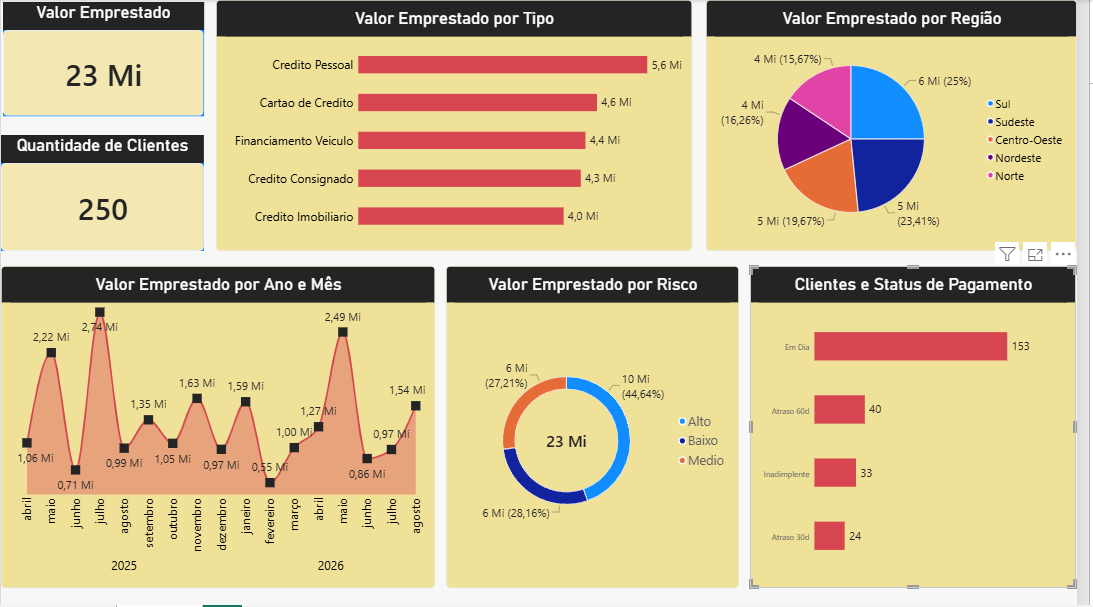

The page's visual inventory and layout, read from the dashboard file:
{"tool":"powerbi","page":{"name":"Página 1","canvas":[1920,1080],"ordinal":0},"visuals":[{"type":"cardVisual","title":"Valor Emprestado","fields":{"Data":["Sum(Dados.VALOR EMPRESTADO)"]},"box":[3.6,3.6,358.8,203.5],"z":0},{"type":"barChart","title":"Valor Emprestado por Tipo","fields":{"Category":["Dados.TIPO DE CRÉDITO"],"Y":["Sum(Dados.VALOR EMPRESTADO)"]},"box":[383.8,0,849.7,448.1],"z":1001},{"type":"cardVisual","title":"Quantidade de Clientes","fields":{"Data":["Count(Dados.ID CLIENTE)"]},"box":[0,241,362.4,207.1],"z":1002},{"type":"areaChart","title":"Valor Emprestado por Ano e Mês","fields":{"Category":["Dados.DATA CONTRATO.Variation.Hierarquia de datas.Ano","Dados.DATA CONTRATO.Variation.Hierarquia de datas.Mês"],"Y":["Sum(Dados.VALOR EMPRESTADO)"]},"box":[0,474.8,774.7,574.8],"z":1003},{"type":"pieChart","title":"Valor Emprestado por Região","fields":{"Category":["Dados.REGIÃO"],"Y":["Sum(Dados.VALOR EMPRESTADO)"]},"box":[1258.5,0,662.3,448.1],"z":1004},{"type":"donutChart","title":"Valor Emprestado por Risco","fields":{"Category":["Dados.RISCO"],"Y":["Sum(Dados.VALOR EMPRESTADO)"]},"box":[794.4,474.8,523,574.8],"z":1005},{"type":"barChart","title":"Clientes e Status de Pagamento","fields":{"Category":["Dados.STATUS"],"Y":["CountNonNull(Dados.ID CLIENTE)"]},"box":[1337.1,474.8,582,574.8],"z":1006}]}

Visuals, with their boxes in screenshot pixels (x1, y1, x2, y2), scaled from the page's 1920x1080 canvas onto the 1093x607 screenshot:
"Valor Emprestado" cardVisual: x1=2, y1=2, x2=206, y2=116
"Valor Emprestado por Tipo" barChart: x1=218, y1=0, x2=702, y2=252
"Quantidade de Clientes" cardVisual: x1=0, y1=135, x2=206, y2=252
"Valor Emprestado por Ano e Mês" areaChart: x1=0, y1=267, x2=441, y2=590
"Valor Emprestado por Região" pieChart: x1=716, y1=0, x2=1092, y2=252
"Valor Emprestado por Risco" donutChart: x1=452, y1=267, x2=750, y2=590
"Clientes e Status de Pagamento" barChart: x1=761, y1=267, x2=1092, y2=590
